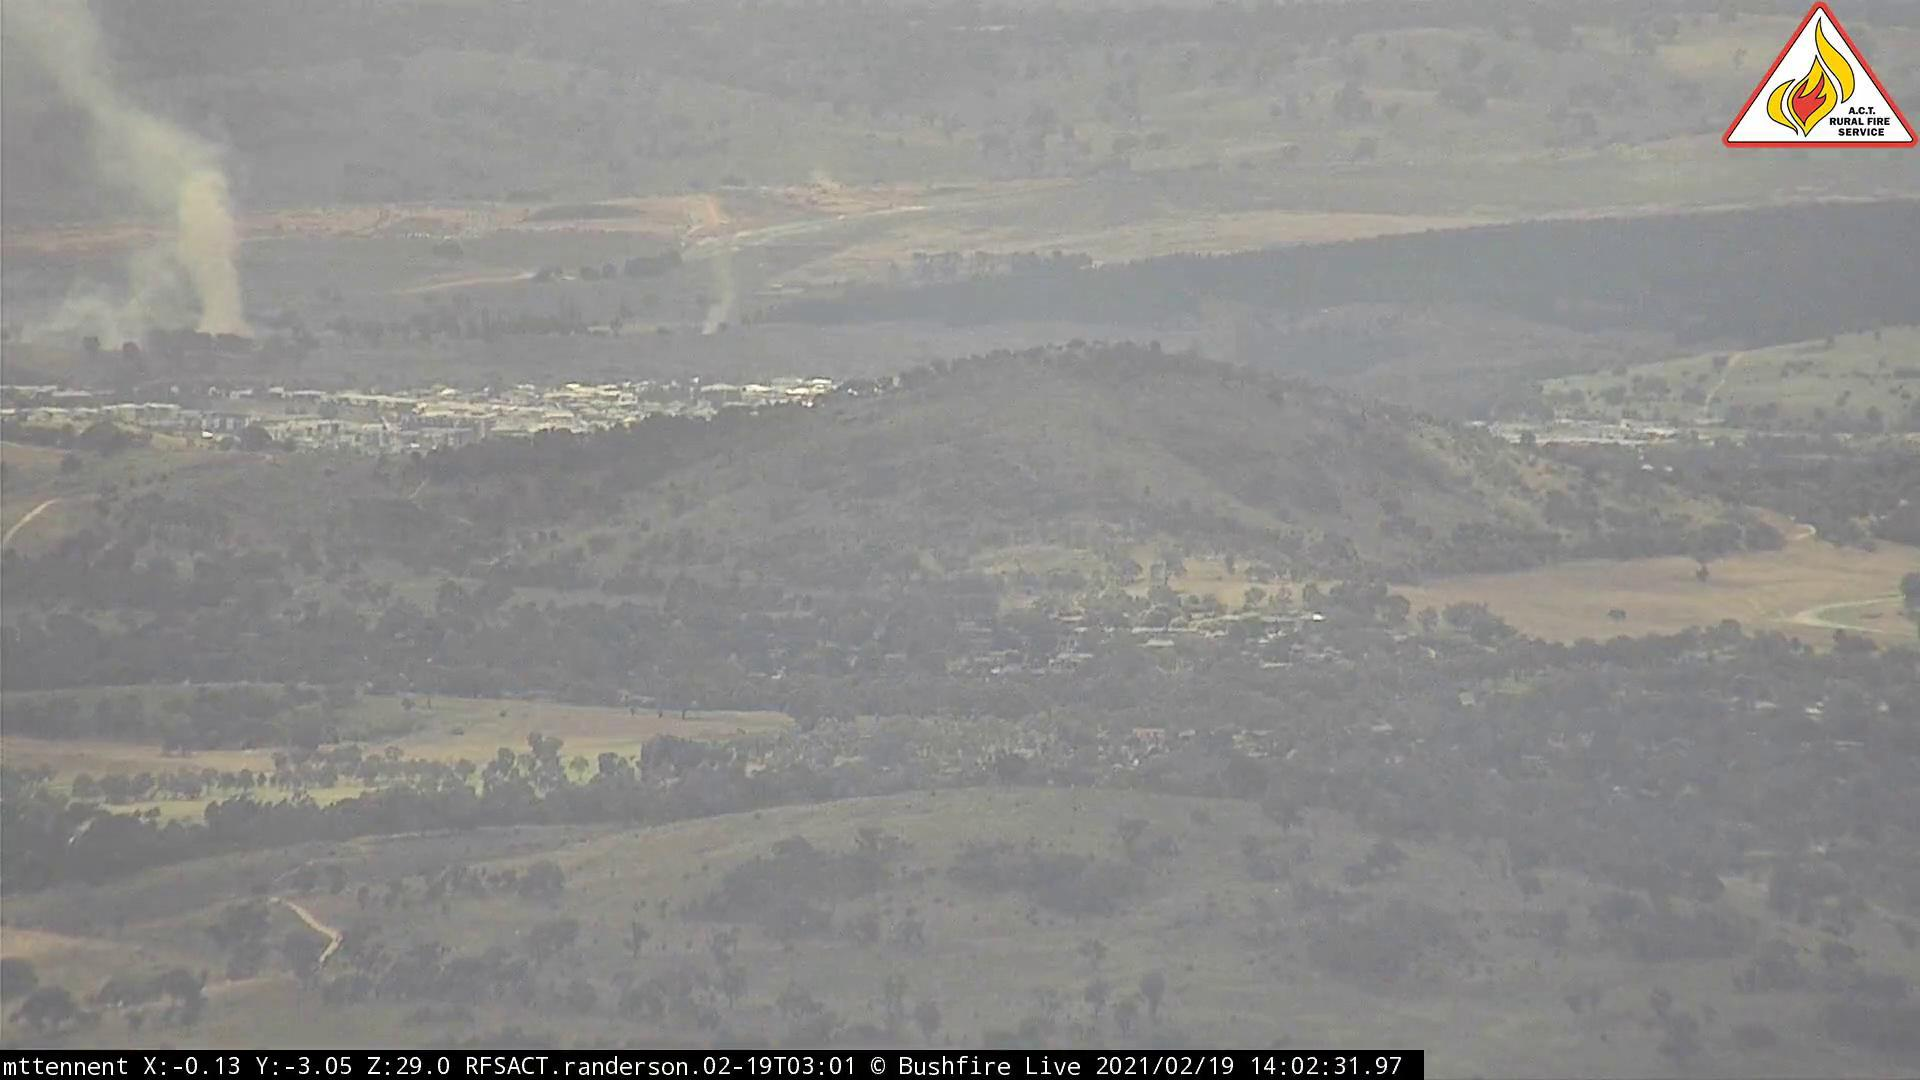Smoke: (3, 3, 299, 347), (688, 208, 767, 351)
